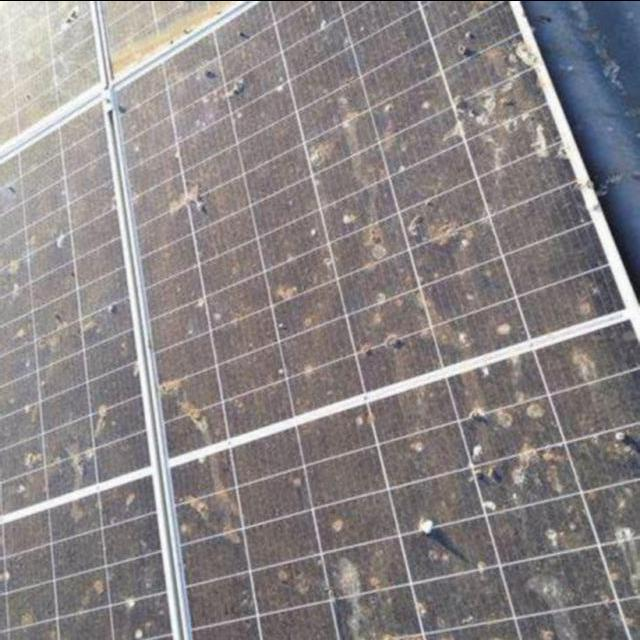soiled: (104, 0, 638, 457), (164, 318, 640, 639), (2, 98, 156, 517), (1, 468, 162, 639)
